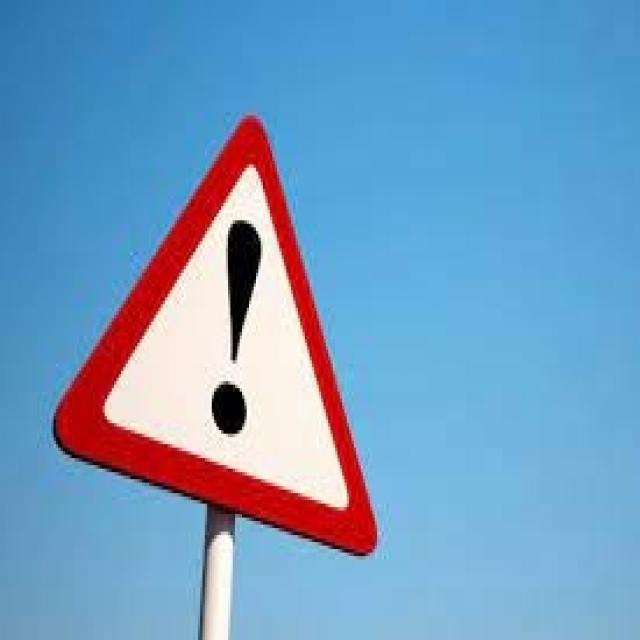warning: (51, 99, 396, 562)
